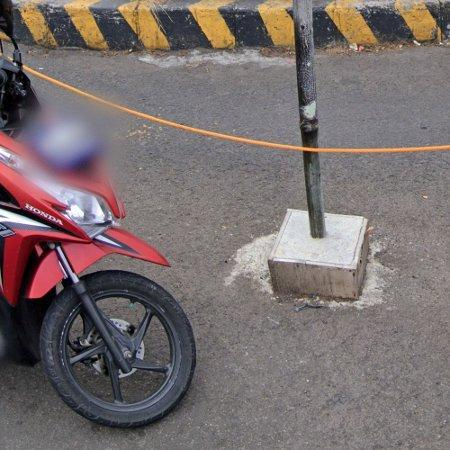motorcycles: (0, 130, 196, 428)
